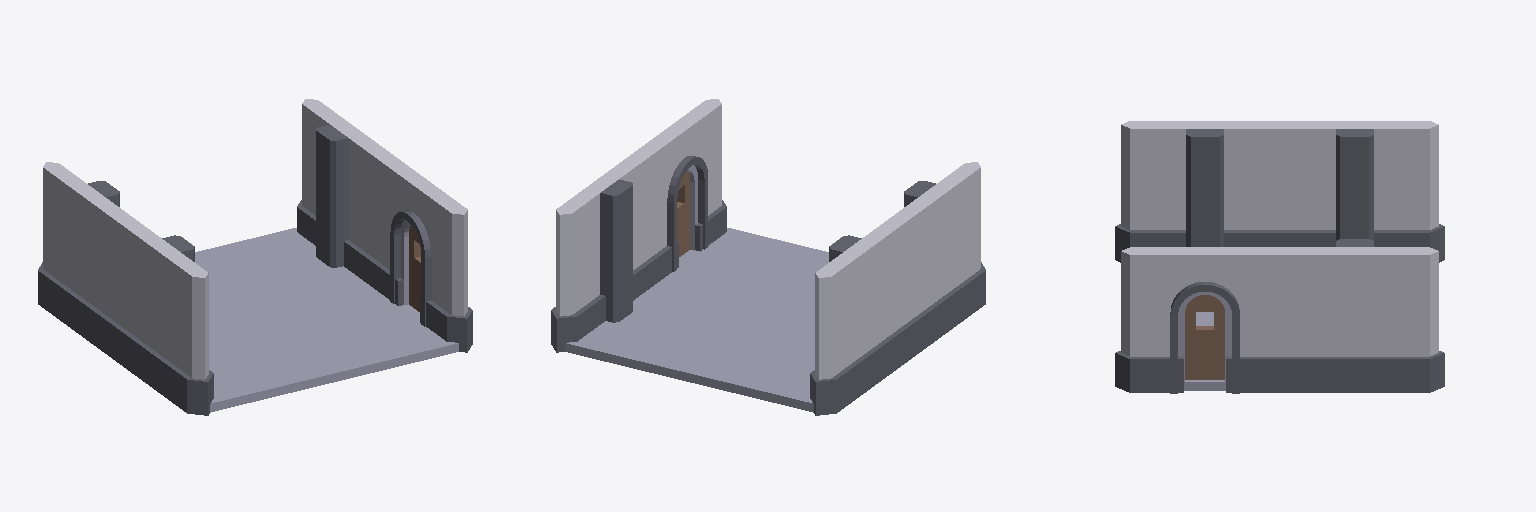
Rendered from hallway_door_01.obj.
3 renders of one model, left to right at view 1: azimuth 30°, elevation 25°; view 2: azimuth 150°, elevation 25°; view 3: azimuth 270°, elevation 25°, orthographic.
Visible parts, largest first — view 1: floor_01_69, wall_02_73, door_01_70, wall_02_74, wall_02_72; view 2: floor_01_69, wall_02_74, wall_02_72, wall_02_73, door_01_70; view 3: wall_02_72, door_01_70, wall_02_73, wall_02_74.
Boxes of the visible parts, box(x1,y1,x2,y2) form: floor_01_69: box(195, 228, 458, 412); wall_02_73: box(112, 217, 213, 415); door_01_70: box(372, 154, 472, 352); wall_02_74: box(38, 162, 133, 357); wall_02_72: box(297, 99, 392, 286); floor_01_69: box(565, 228, 828, 412); wall_02_74: box(810, 217, 911, 415); wall_02_72: box(551, 155, 651, 352); wall_02_73: box(891, 162, 985, 357); door_01_70: box(631, 99, 726, 286); wall_02_72: box(1272, 239, 1444, 392); door_01_70: box(1115, 247, 1287, 393); wall_02_73: box(1115, 121, 1288, 262); wall_02_74: box(1272, 121, 1444, 262).
Bounding box in the file's own units: 2.21 × 1 × 2.21.